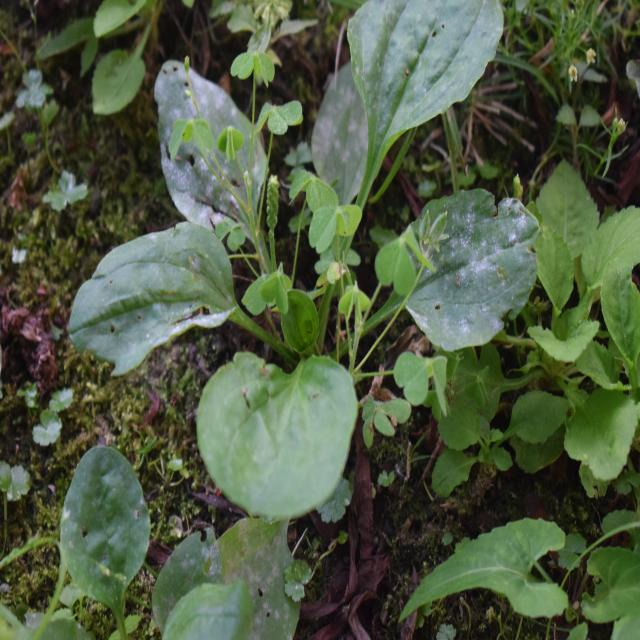plantain: (110, 3, 499, 499)
